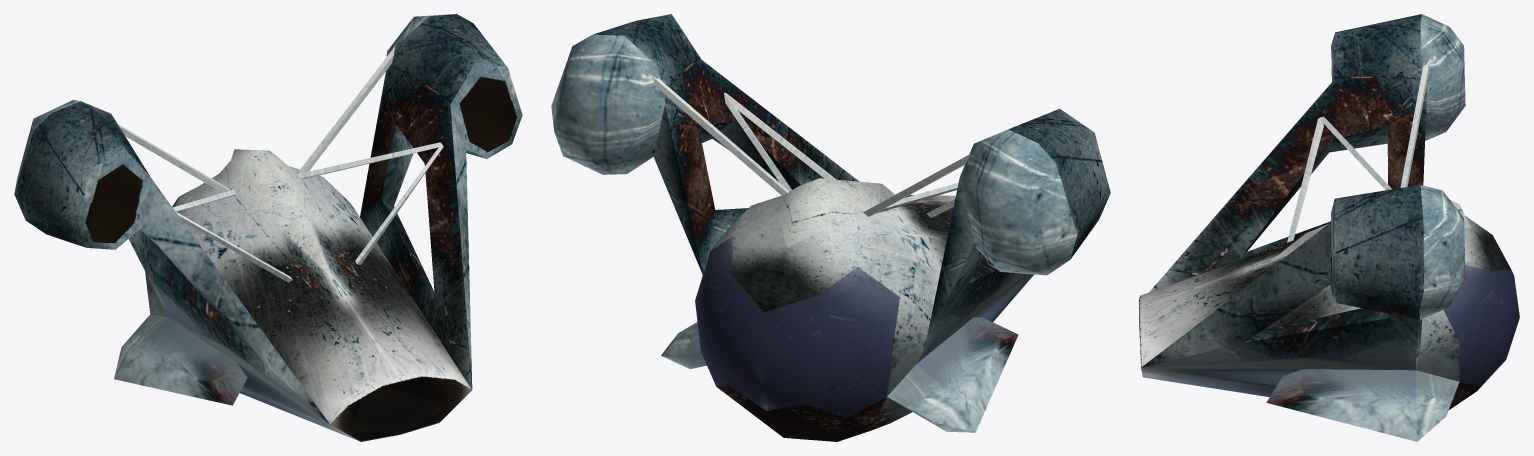
The picture shows the model from 3 angles, left to right: view 1: azimuth 30°, elevation 25°; view 2: azimuth 150°, elevation 25°; view 3: azimuth 270°, elevation 25°; orthographic projection. The views are drawn at different scales.
Visible parts, largest first — view 1: Сфера; view 2: Сфера; view 3: Сфера.
Part boxes in pixels (x1,y1,x2,y2): Сфера: (14,14,522,441); Сфера: (551,14,1110,441); Сфера: (1139,14,1519,441).
Bounding box in the file's own units: 94580 × 60667 × 68267.
